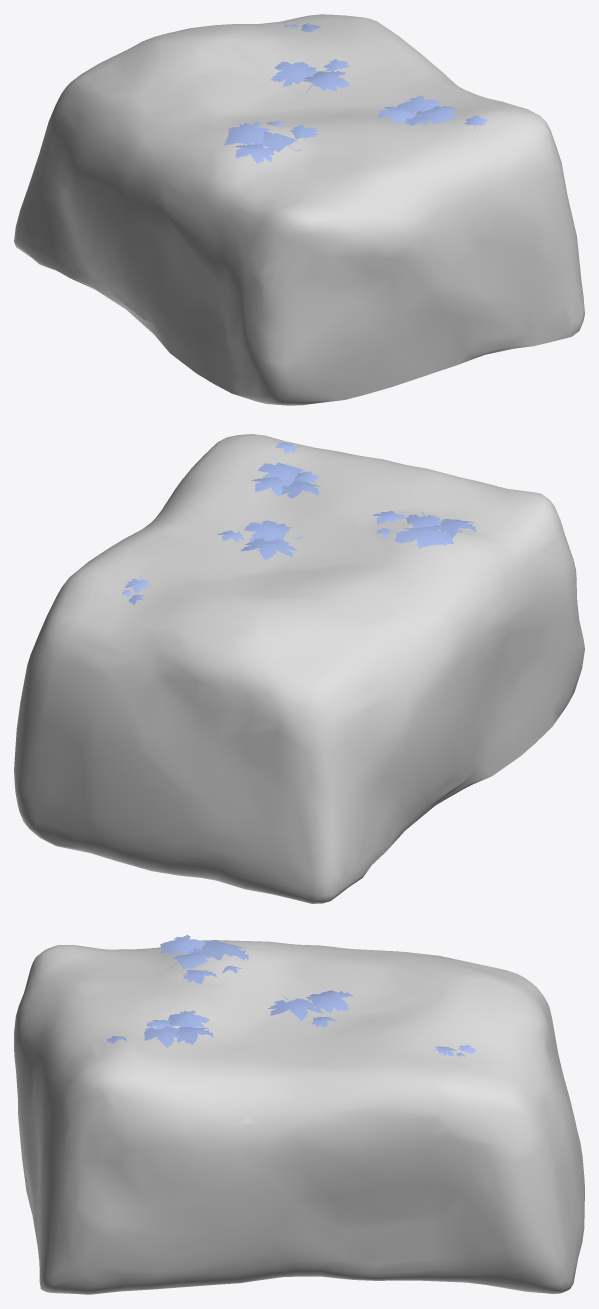
File: Pedra Deitada 3.fbx
3 views of the same model, one above another, from view 1: azimuth 30°, elevation 25°; view 2: azimuth 150°, elevation 25°; view 3: azimuth 270°, elevation 25° (orthographic). The views are drawn at different scales.
Visible parts, largest first — view 1: Pedra 3.001, Folha 1 Azul2.117, Folha 1 Azul2.122, Folha 1 Azul2.123, Folha 1 Azul2.121; view 2: Pedra 3.001, Folha 1 Azul2.117, Folha 1 Azul2.123, Folha 1 Azul2.122; view 3: Pedra 3.001, Folha 1 Azul2.122, Folha 1 Azul2.117, Folha 1 Azul2.123, Folha 1 Azul2.121, Folha 1 Azul2.112, Folha 1 Azul2.115.
Boxes of the visible parts, x1,y1,x2,y2 form: Pedra 3.001: (14, 14, 584, 405); Folha 1 Azul2.117: (224, 121, 269, 156); Folha 1 Azul2.122: (271, 61, 318, 87); Folha 1 Azul2.123: (302, 70, 350, 91); Folha 1 Azul2.121: (235, 144, 274, 163); Pedra 3.001: (14, 434, 584, 903); Folha 1 Azul2.117: (394, 525, 462, 548); Folha 1 Azul2.123: (243, 520, 302, 542); Folha 1 Azul2.122: (240, 538, 297, 560); Pedra 3.001: (14, 940, 584, 1294); Folha 1 Azul2.122: (305, 990, 353, 1013); Folha 1 Azul2.117: (188, 940, 248, 960); Folha 1 Azul2.123: (267, 997, 323, 1020); Folha 1 Azul2.121: (159, 934, 205, 954); Folha 1 Azul2.112: (168, 1010, 209, 1027); Folha 1 Azul2.115: (144, 1026, 185, 1047).
Size of the model in its own units: 296 by 189 by 390.
